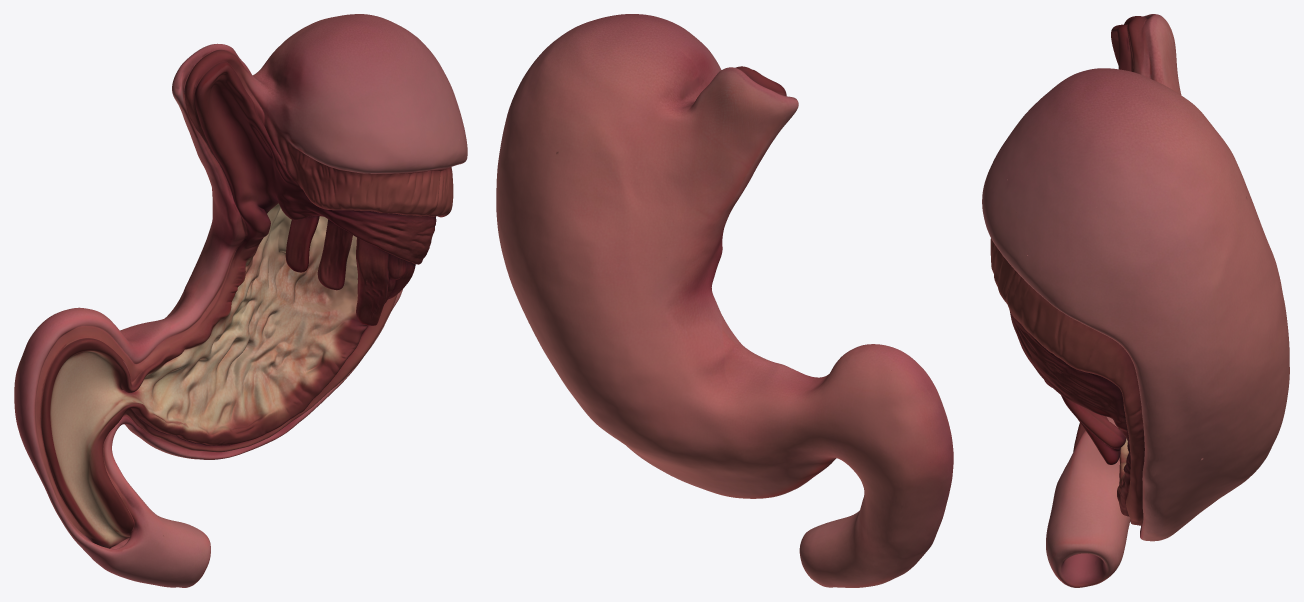
The model's file is Lop11_Hệ tiêu hóa người_Tab2_Dạ dày.glb.
The picture shows the model from 3 angles, left to right: view 1: azimuth 30°, elevation 25°; view 2: azimuth 150°, elevation 25°; view 3: azimuth 270°, elevation 25°; orthographic projection. The views are drawn at different scales.
Parts seen in each view (by area): view 1: tripo_node_1ff90087-b727-4d41-a9a5-41ef8df6c003; view 2: tripo_node_1ff90087-b727-4d41-a9a5-41ef8df6c003; view 3: tripo_node_1ff90087-b727-4d41-a9a5-41ef8df6c003.
Boxes of the visible parts, left/top/right/bottom form: tripo_node_1ff90087-b727-4d41-a9a5-41ef8df6c003: left=14, top=14, right=467, bottom=587; tripo_node_1ff90087-b727-4d41-a9a5-41ef8df6c003: left=496, top=14, right=953, bottom=587; tripo_node_1ff90087-b727-4d41-a9a5-41ef8df6c003: left=982, top=14, right=1289, bottom=587.
Bounding box in the file's own units: 0.8711 × 1 × 0.4553.
Materials: 1 (1 with a texture image).
